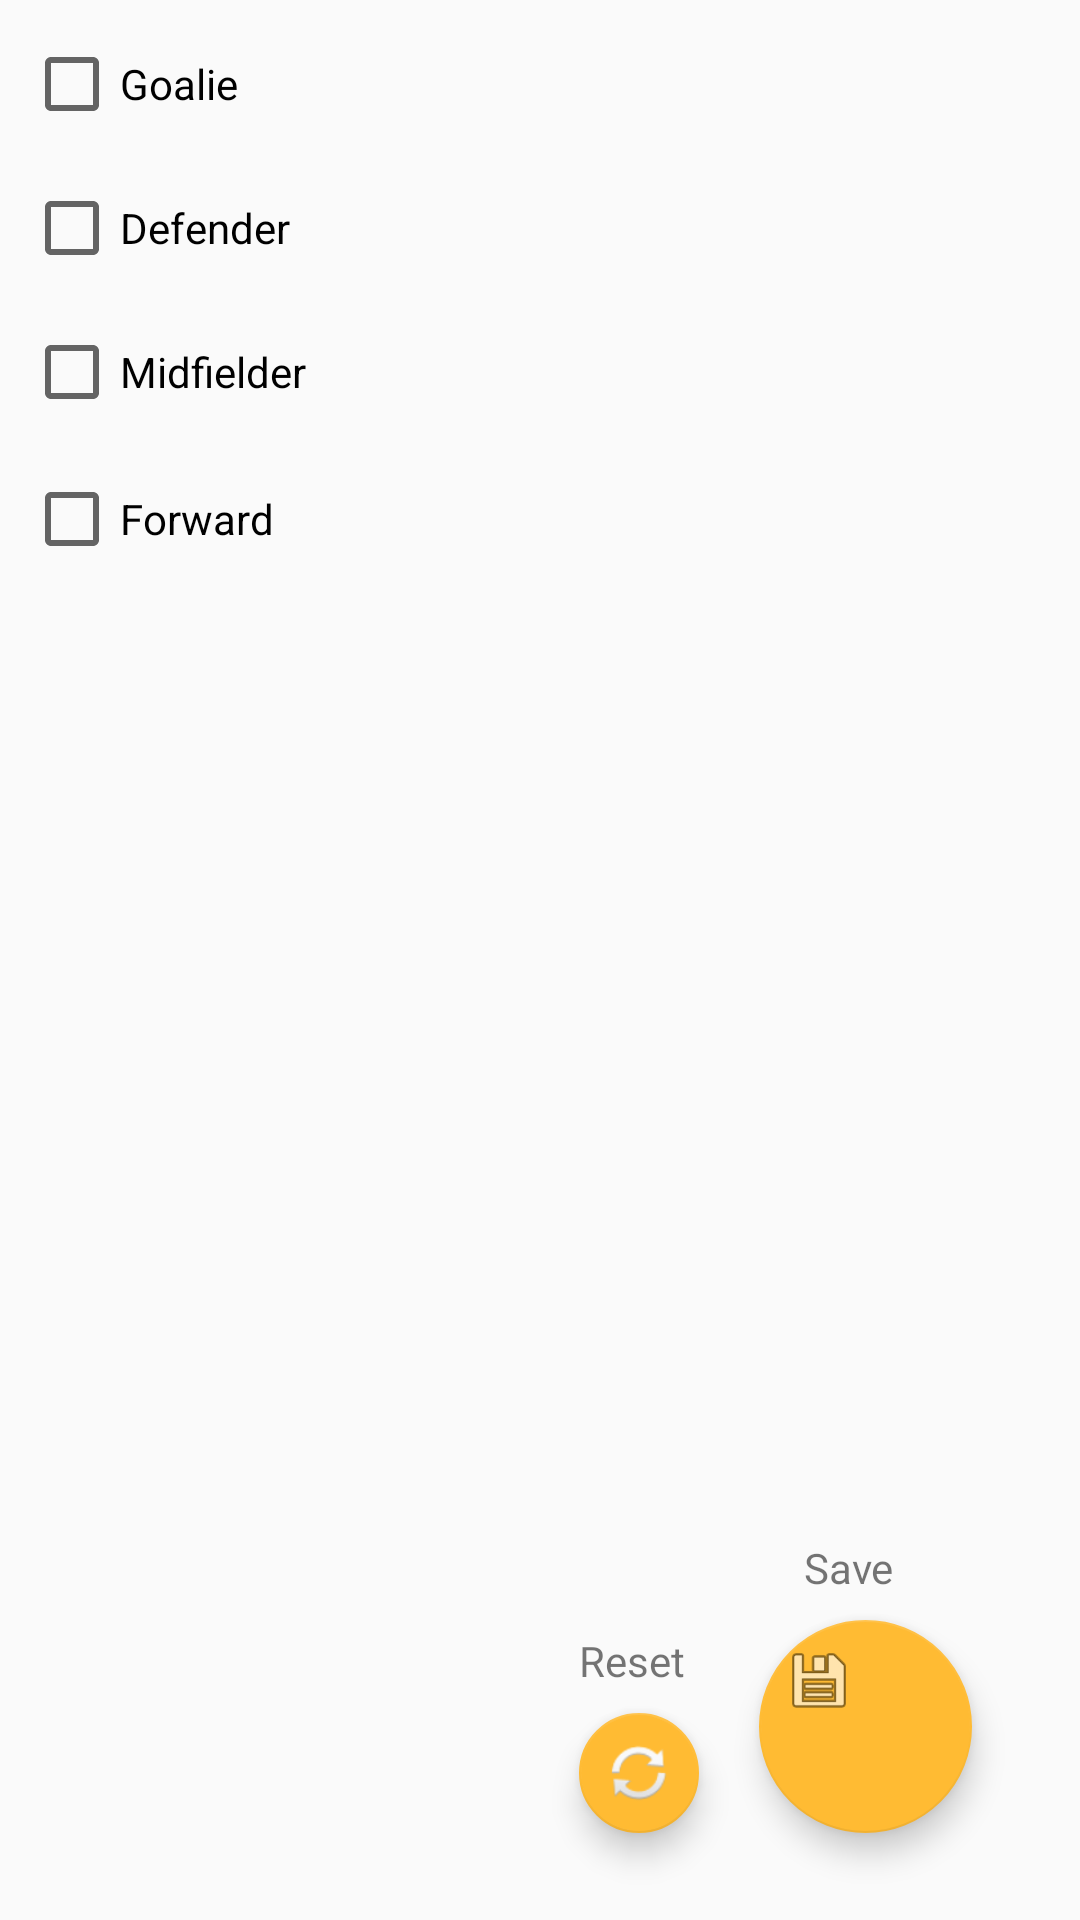

Where to tap for icons on this 1080*1920 app screen, as (x,y):
popup sync: (639,1773)
